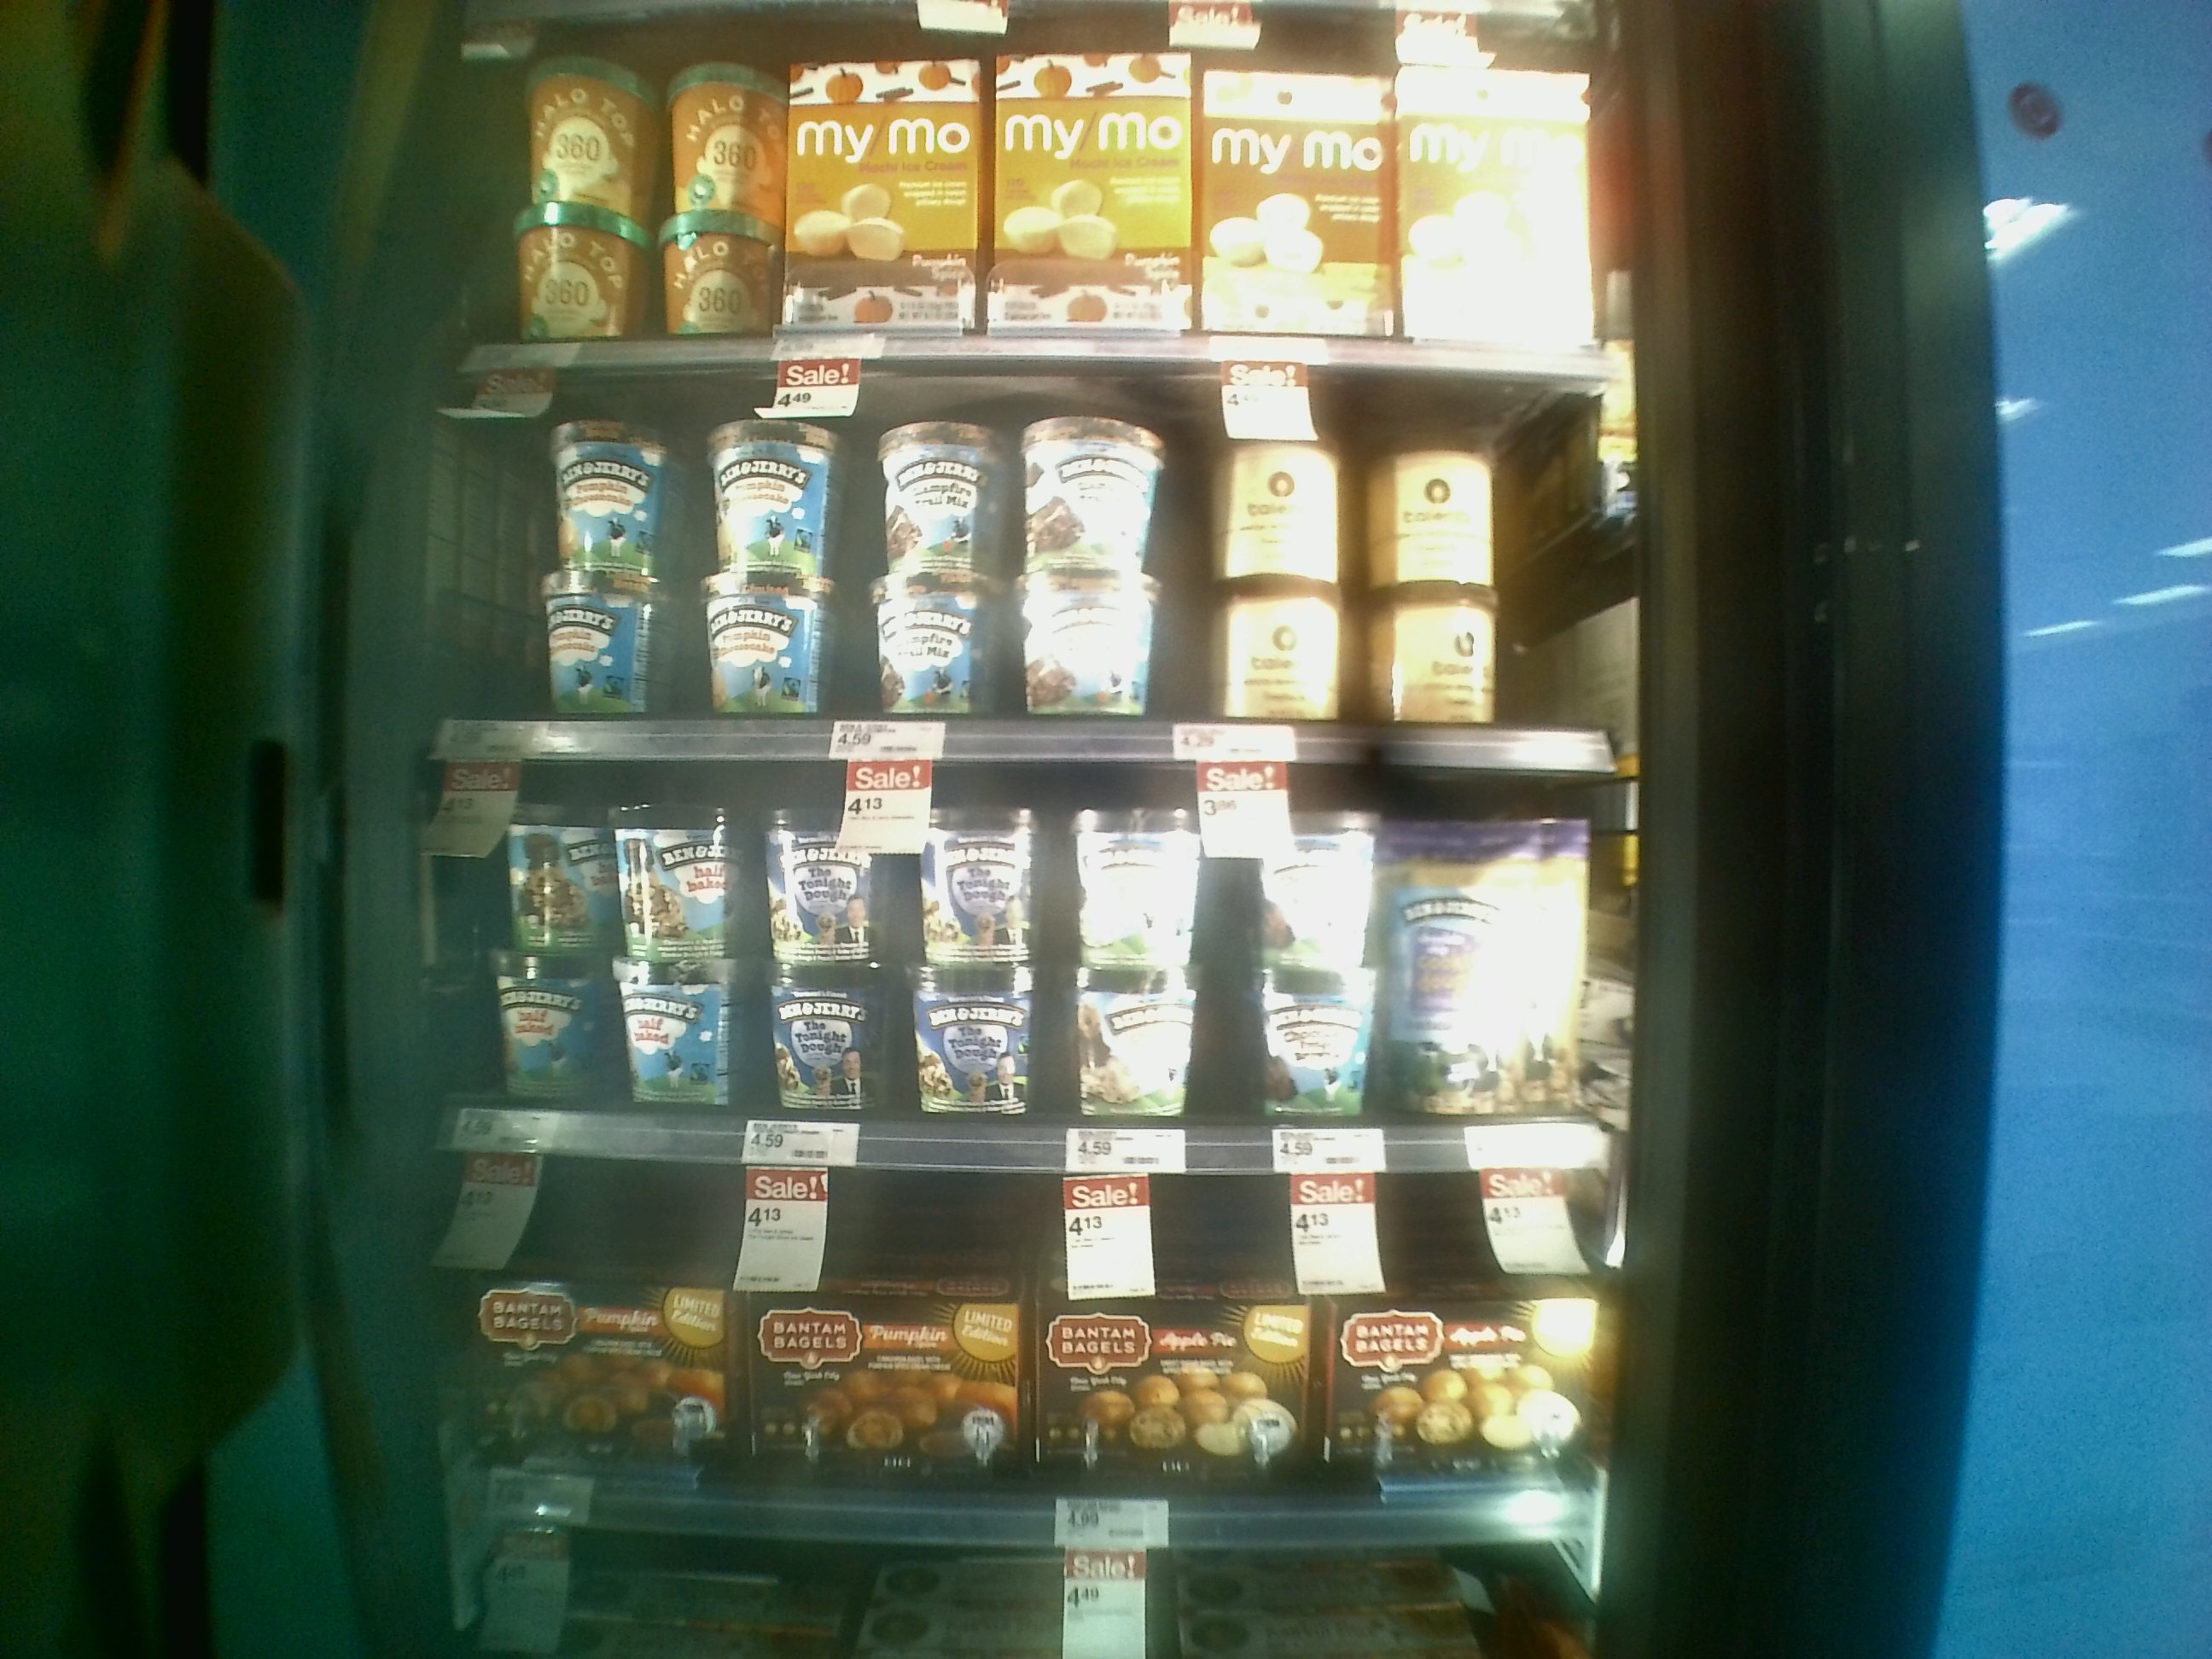shelf: (369, 748, 1662, 1175), (388, 357, 1639, 775), (369, 1154, 1609, 1544)
